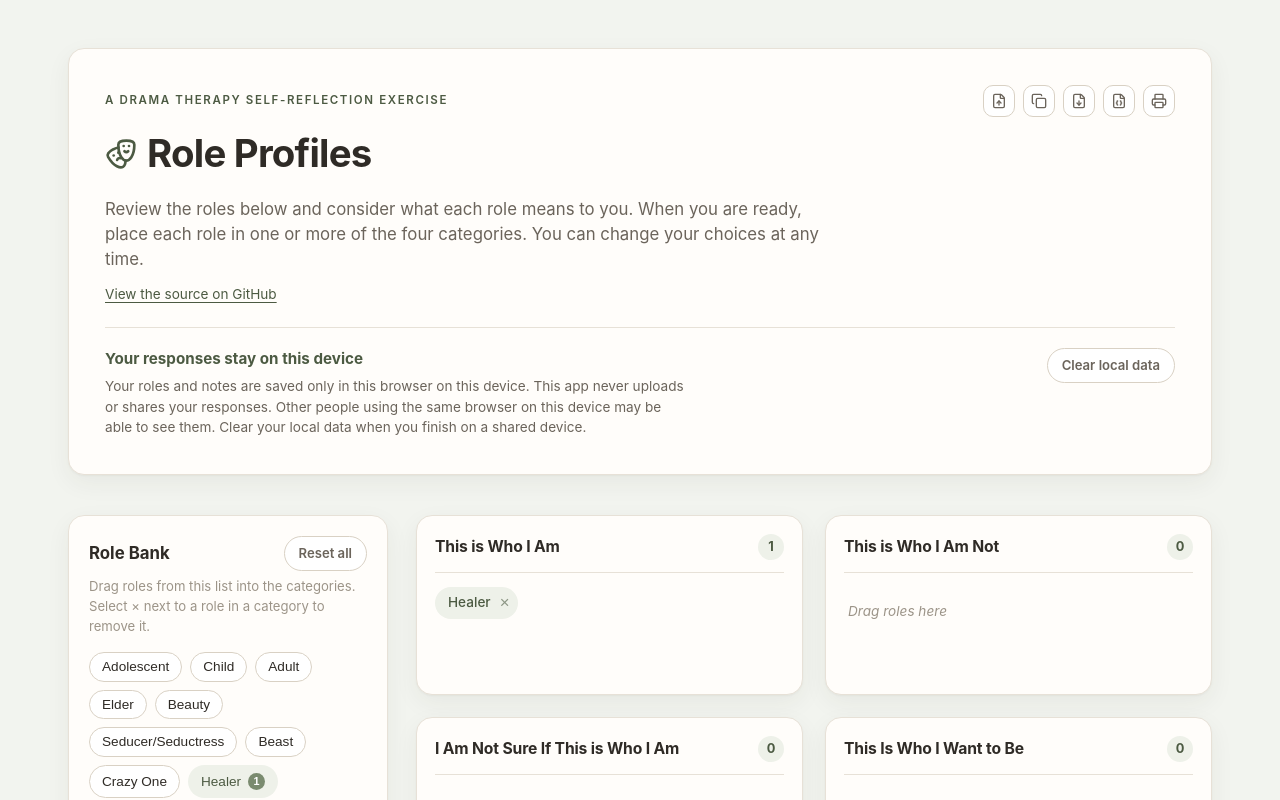
privacy and local data › removes only this app’s data and stays empty after remounting
This screenshot has width=1280, height=800.
Click the button "Clear local data": coordinates (1111, 365) [1047,348,1175,383]
(page scrolled)
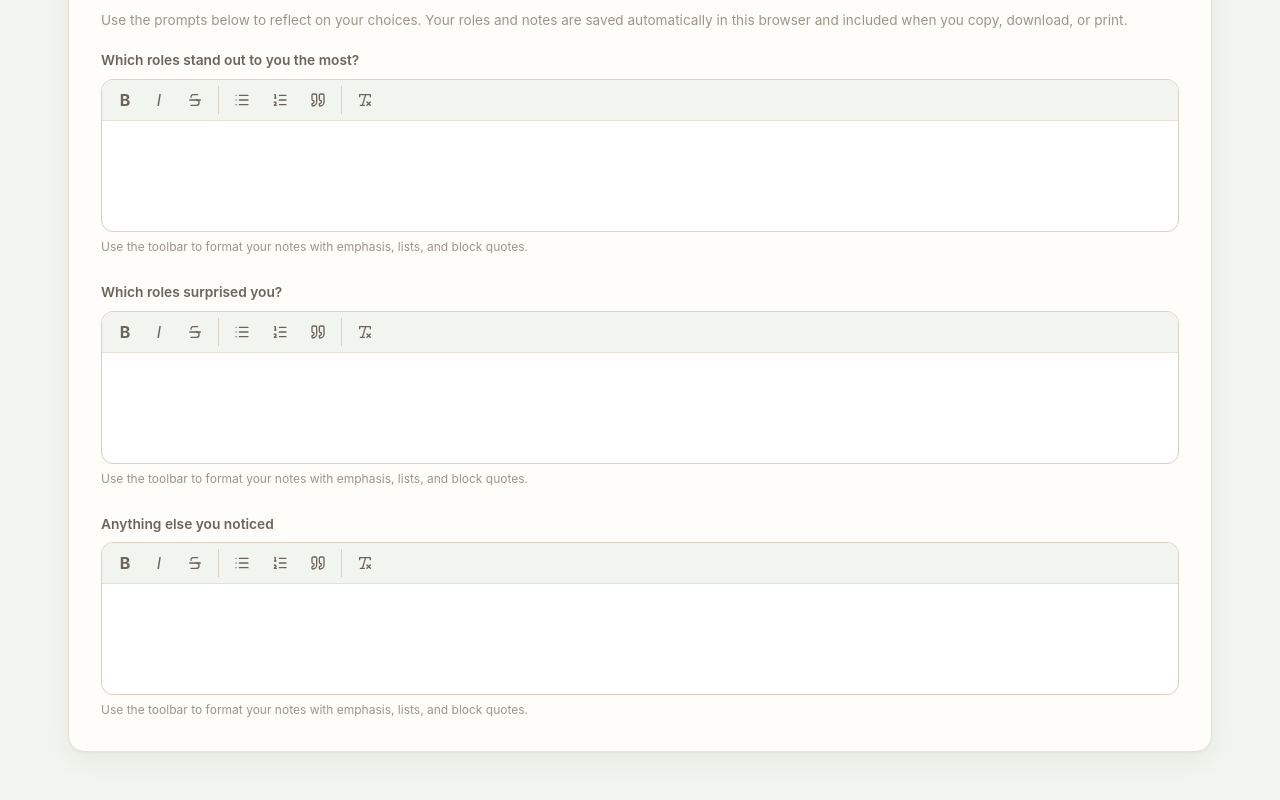
Result: no elements with class "chip--placed-in-cat" are shown
Result: the field with class "rte__content" is empty at [102,121,1178,231]
